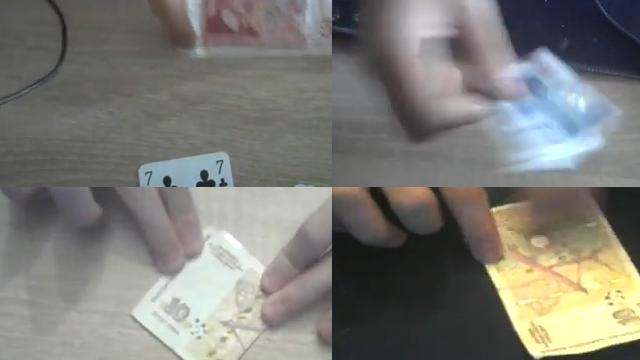10leva: (483, 193, 640, 360), (129, 230, 266, 360)
20leva: (459, 47, 619, 172)
5leva: (204, 0, 289, 47)
